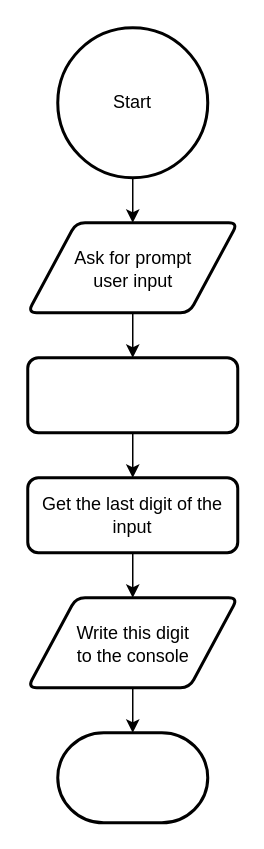
Some shapes in this 264 by 849 pixel diagram are drawn without their labels. The centre of each missing label's shape, as x and y in pixels:
"Convert the user input to a number" belongs at [132,395].
"End" belongs at [132,777].
